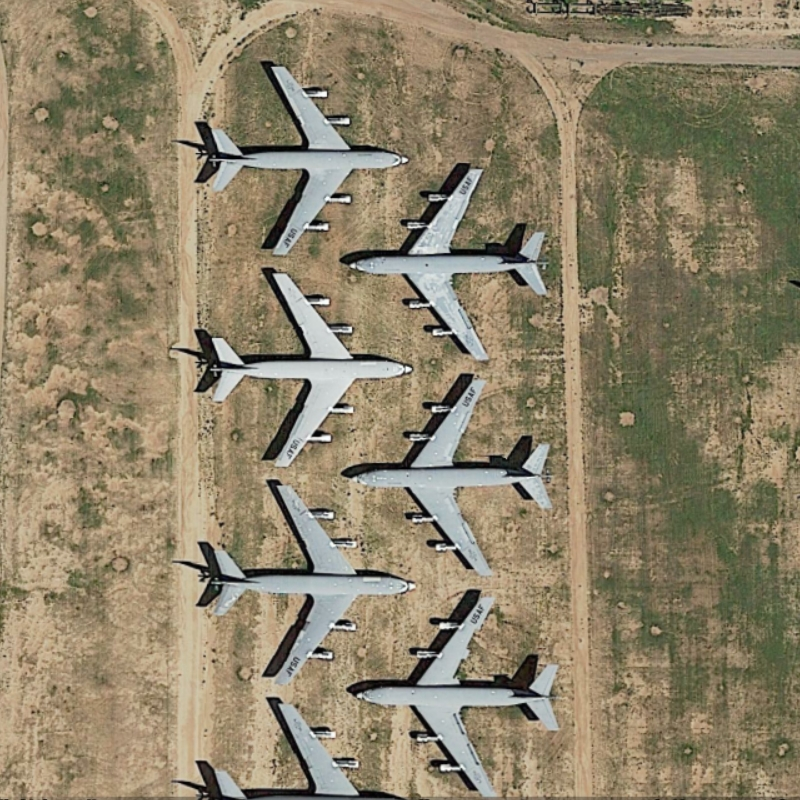A14: (338, 164, 575, 370), (203, 474, 417, 699), (195, 45, 415, 261), (187, 266, 417, 472), (354, 589, 574, 800), (356, 372, 571, 583)
